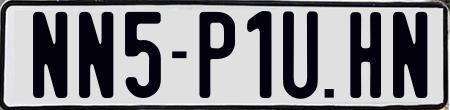1: (247, 8, 276, 95)
5: (125, 11, 161, 98)
H: (348, 9, 382, 100)
N: (30, 9, 68, 97), (79, 10, 116, 96), (391, 11, 425, 100)
P: (198, 10, 237, 101)
U: (283, 8, 320, 102)
